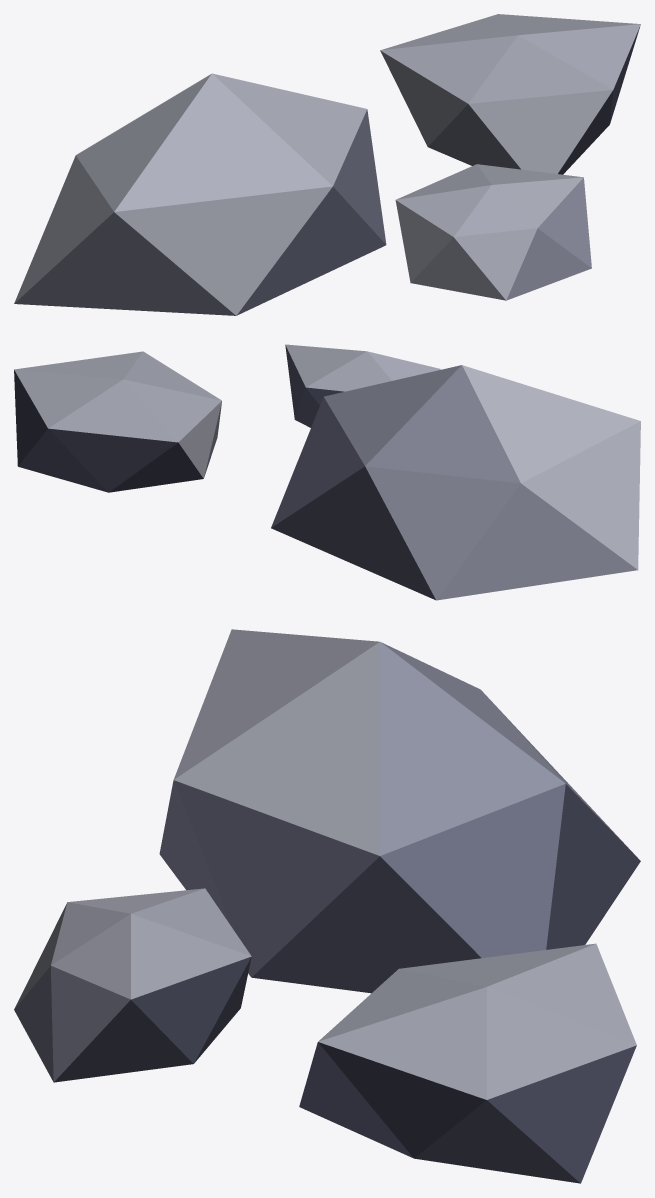
The model's file is pebbles.glb.
3 views of the same model, one above another, from view 1: azimuth 30°, elevation 25°; view 2: azimuth 150°, elevation 25°; view 3: azimuth 270°, elevation 25° (orthographic). The views are drawn at different scales.
Parts seen in each view (by area): view 1: pebbles; view 2: pebbles; view 3: pebbles.
Part boxes in pixels (x1,y1,x2,y2): pebbles: (14,14,640,315); pebbles: (14,344,640,600); pebbles: (14,629,640,1183).
Size of the model in its own units: 0.3096 by 0.084 by 0.1762.
